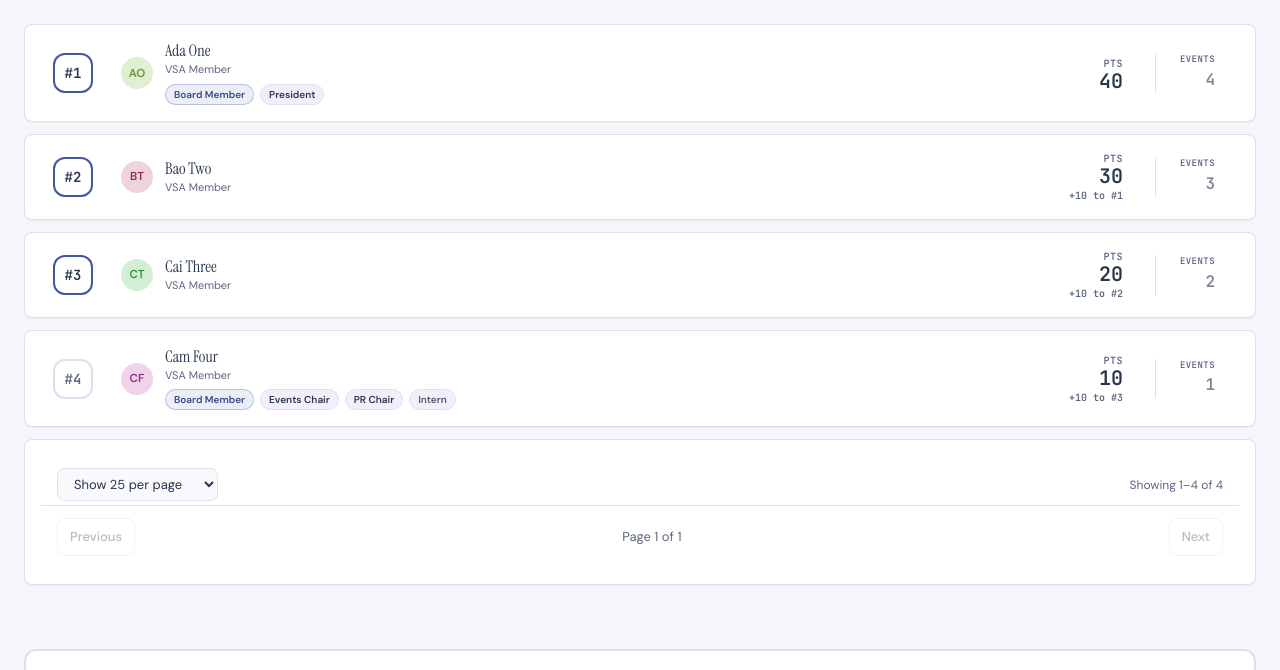
Test case: leaderboard badges on ALL members, not only Top 3 (#627) › shows independently verified roles in a lower-ranked full standings row and its existing modal
(page scrolled)
Expected: the text "Board Member" is shown, [165,389,254,410]
Expected: the text "Events Chair" is shown, [260,389,339,410]
What coordinates should you click on to do the following:
click the button with aria-label "Open profile for Cam Four"
I would click on:
 (191, 357)
Its box is [165,347,218,367].
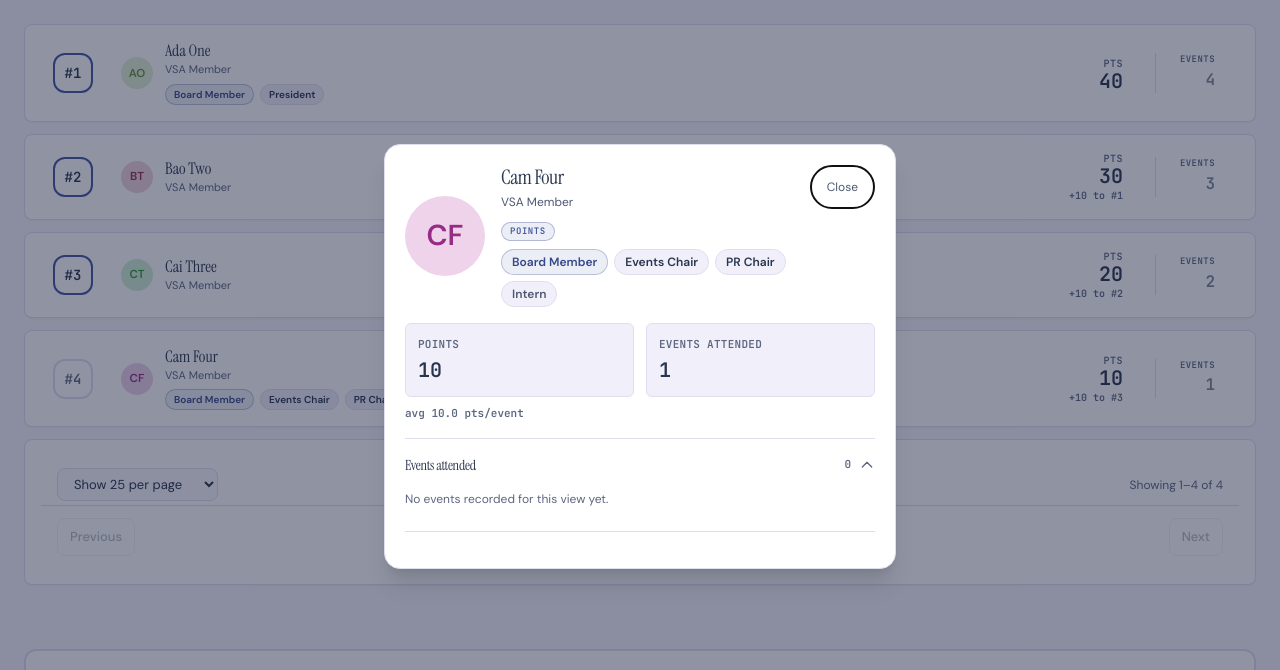
Result: the text "Board Member" is shown at [501,248,608,274]
Result: the text "Events Chair" is shown at [614,248,709,274]
Result: the text "PR Chair" is shown at [715,248,786,274]
